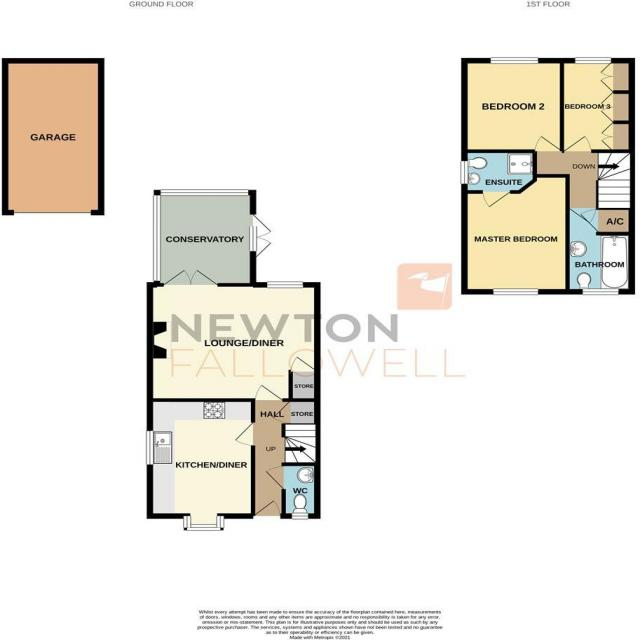DOOR: (232, 418, 256, 448), (252, 382, 288, 402), (261, 464, 287, 490), (481, 190, 514, 209), (252, 498, 281, 519), (288, 354, 320, 372), (533, 132, 563, 151), (562, 135, 593, 153)
ROOM: (147, 268, 321, 402), (147, 398, 256, 531), (461, 174, 570, 295), (461, 57, 564, 153), (559, 58, 635, 153)
WINDOW: (151, 193, 163, 284), (159, 188, 250, 198), (183, 514, 226, 532), (491, 286, 540, 298), (490, 55, 540, 65), (144, 429, 155, 467), (266, 280, 305, 290), (580, 287, 620, 296), (573, 56, 612, 65), (460, 159, 471, 185)
